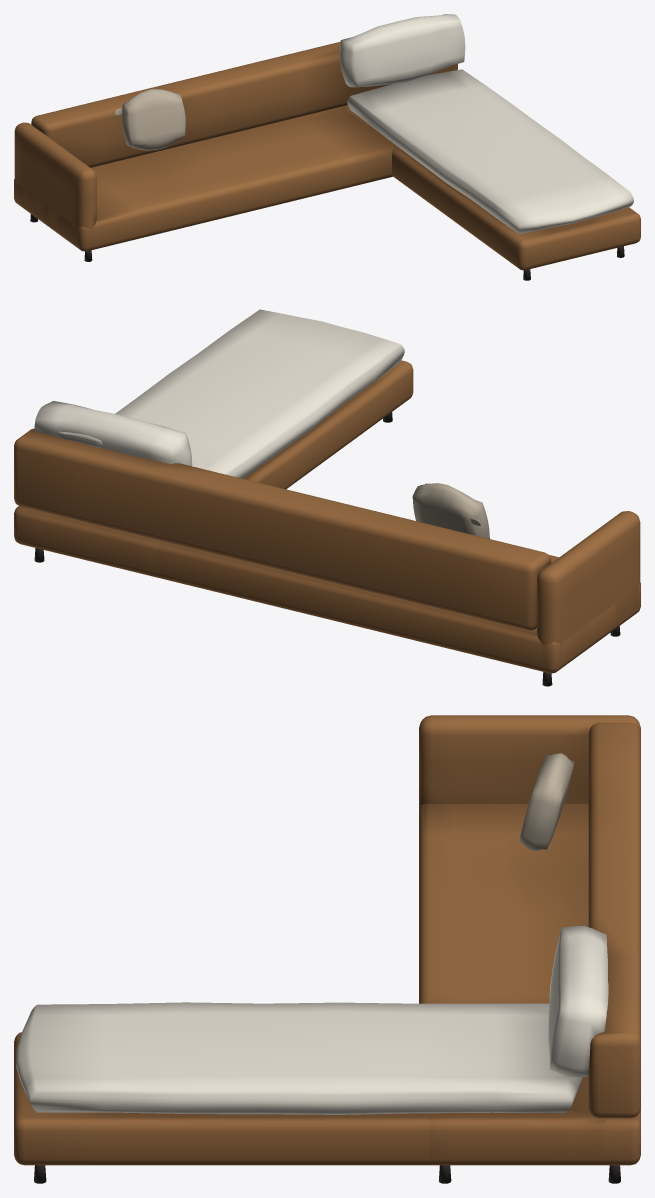
File: salon_jardin.glb
The picture shows the model from 3 angles, top to bottom: view 1: azimuth 30°, elevation 25°; view 2: azimuth 150°, elevation 25°; view 3: azimuth 270°, elevation 25°; orthographic projection. The views are drawn at different scales.
Parts seen in each view (by area): view 1: socle, assises, dossiers, coussins; view 2: socle, assises, dossiers, coussins; view 3: socle, assises, dossiers, coussins, pieds.
Part boxes in pixels (x1,y1,x2,y2): socle: (14, 41, 640, 270); assises: (347, 69, 633, 233); dossiers: (340, 14, 465, 87); coussins: (115, 89, 185, 150); socle: (14, 360, 640, 673); assises: (115, 309, 404, 478); dossiers: (34, 401, 192, 466); coussins: (412, 483, 489, 538); socle: (14, 715, 640, 1165); assises: (16, 1002, 583, 1114); dossiers: (548, 926, 608, 1077); coussins: (519, 753, 574, 850); pieds: (34, 1165, 620, 1183).
Size of the model in its own units: 3 by 0.7997 by 2.4.
